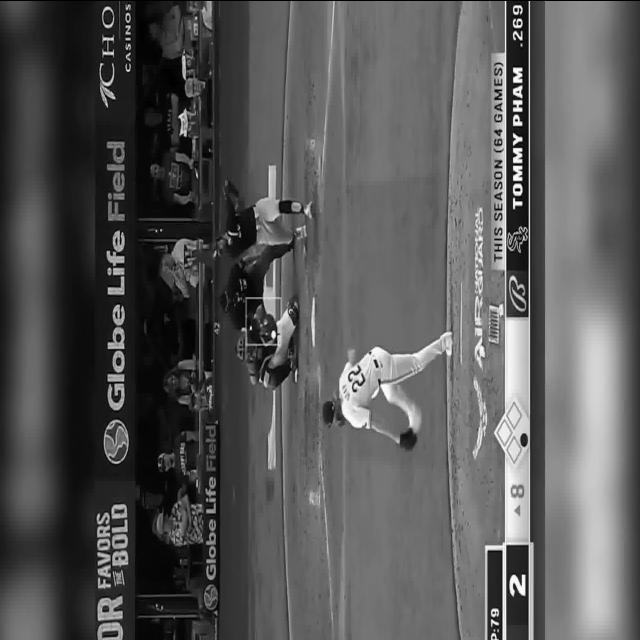baseball_glove: (400, 427, 418, 451)
shoe: (440, 329, 454, 356)
